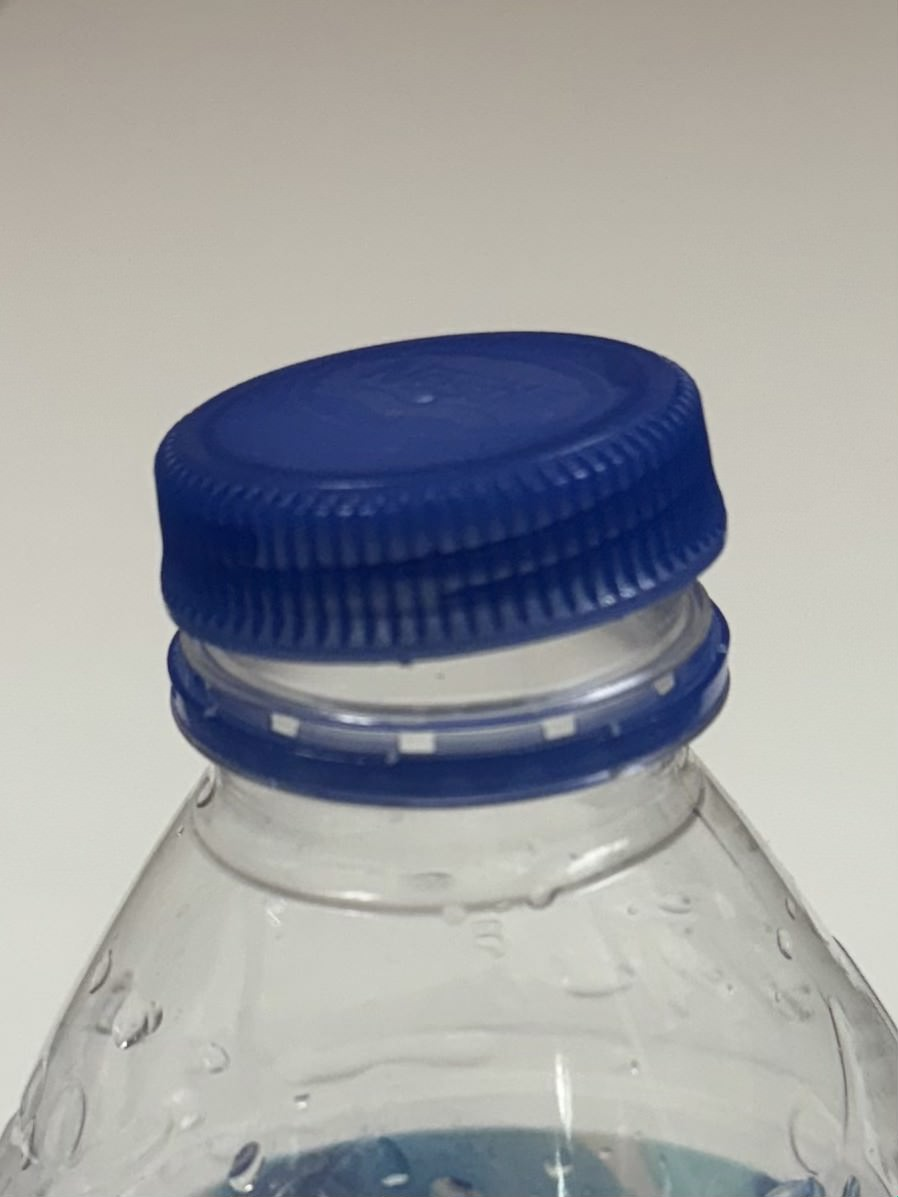half_cap: (140, 318, 746, 806)
